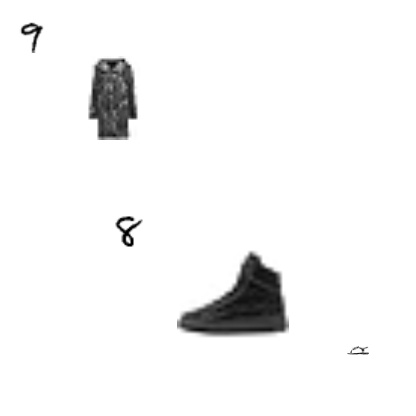8: (105, 209, 147, 251)
9: (11, 11, 53, 53)
Coat: (71, 56, 155, 140)
Sandal: (347, 339, 369, 361)
Sneaker: (177, 236, 289, 348)
